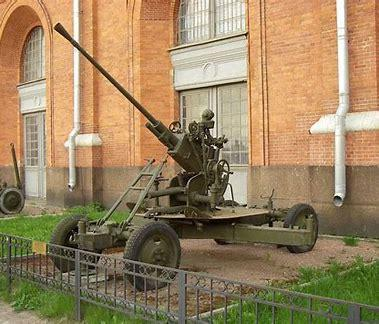MIL_SPG: (51, 23, 318, 290)
